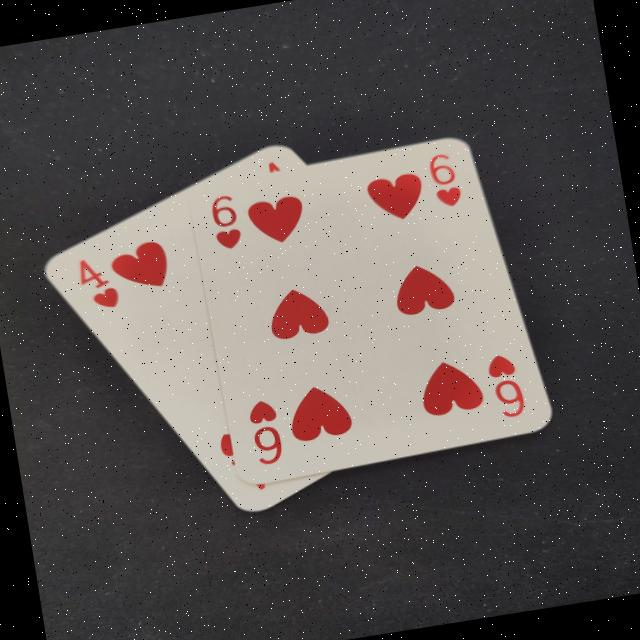4h: (64, 250, 130, 320)
6h: (476, 349, 536, 430), (237, 393, 295, 470), (420, 147, 476, 220), (200, 188, 252, 262)
